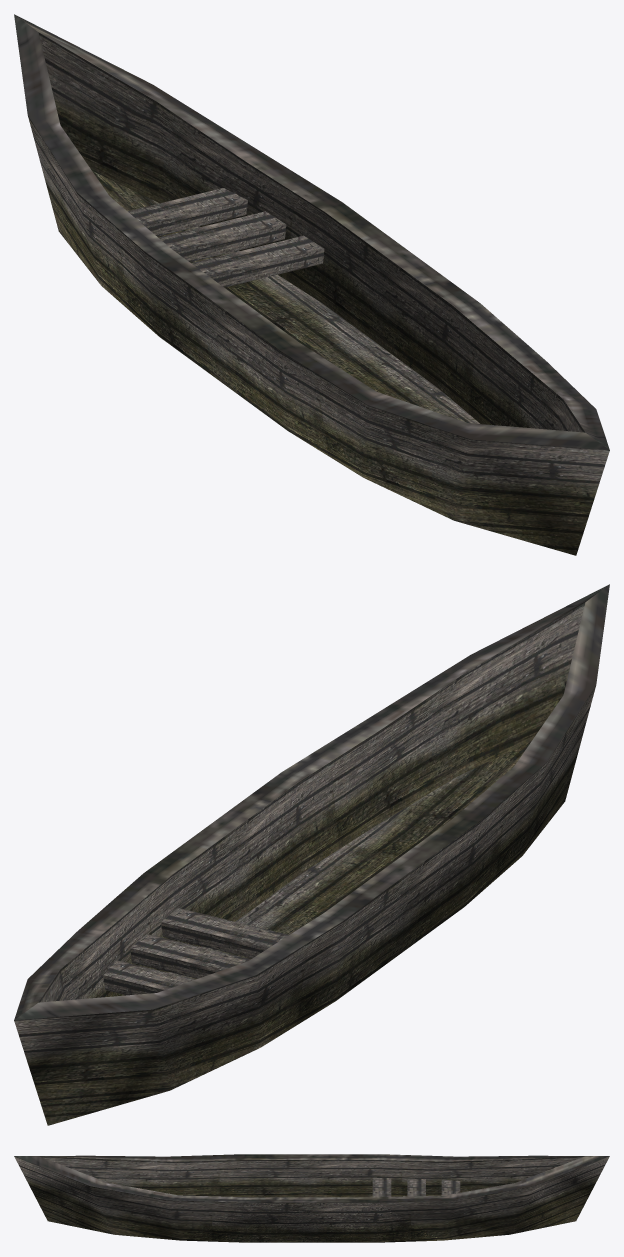
Rendered from skiff02.glb.
3 views of the same model, one above another, from view 1: azimuth 30°, elevation 25°; view 2: azimuth 150°, elevation 25°; view 3: azimuth 270°, elevation 25° (orthographic). The views are drawn at different scales.
Parts seen in each view (by area): view 1: _skiff02; view 2: _skiff02; view 3: _skiff02.
Boxes of the visible parts, x1,y1,x2,y2 form: _skiff02: [14, 14, 609, 555]; _skiff02: [14, 584, 609, 1125]; _skiff02: [14, 1154, 609, 1242].
Bounding box in the file's own units: 3 × 2.23 × 15.59.
Materials: 1 (1 with a texture image).
